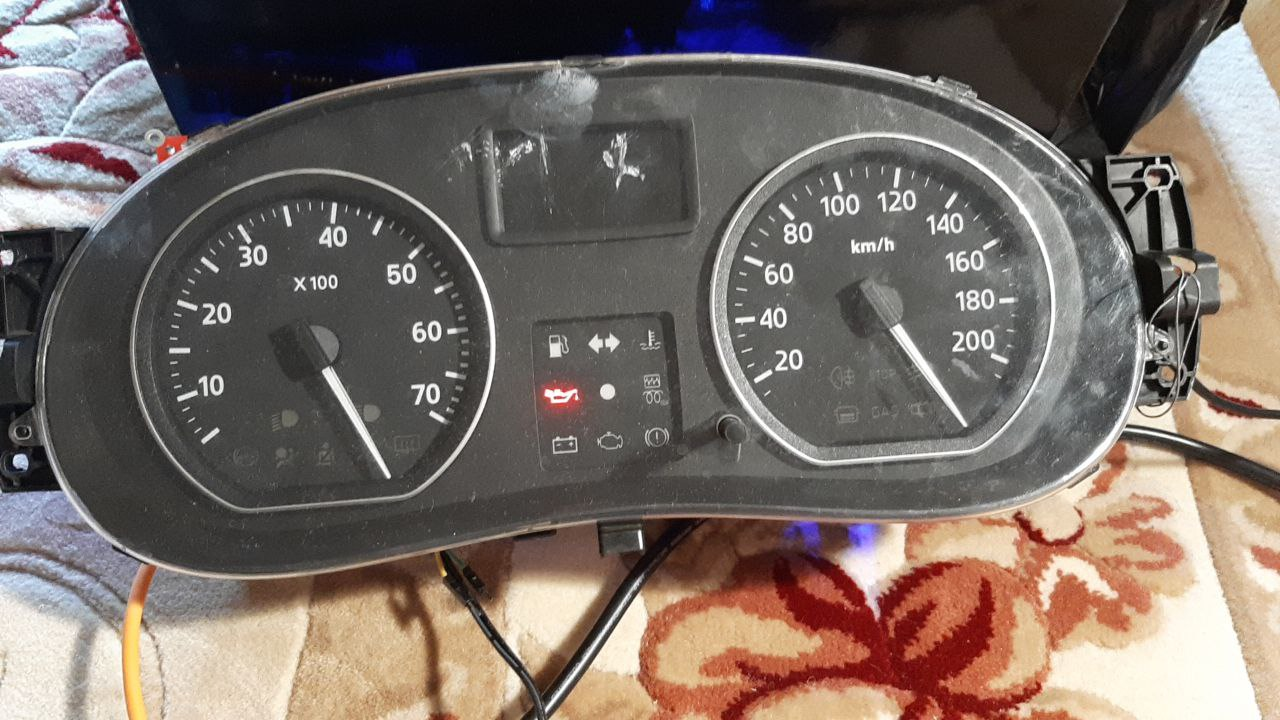oil: (535, 383, 584, 410)
